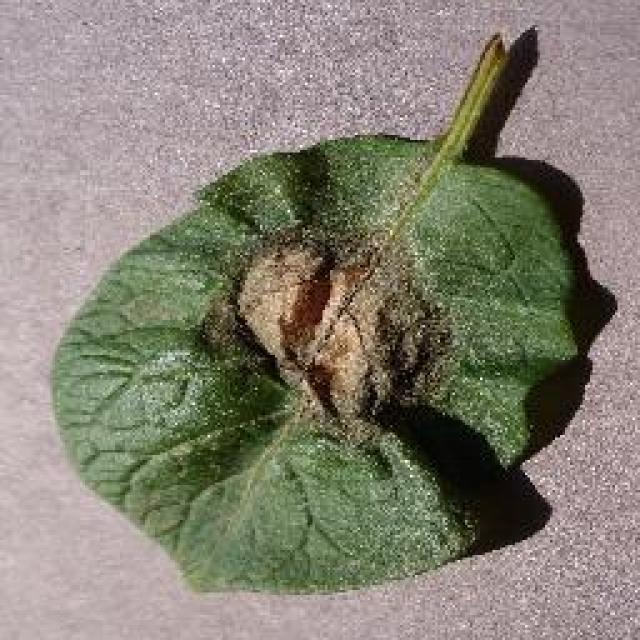Potato___Late_blight: (45, 23, 586, 596)
